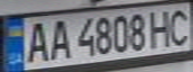0: (112, 12, 133, 53)
4: (72, 14, 96, 57)
8: (127, 10, 151, 52), (93, 12, 115, 55)
A: (21, 18, 51, 64), (45, 16, 72, 61)
C: (163, 6, 193, 46)
H: (145, 7, 175, 48)
